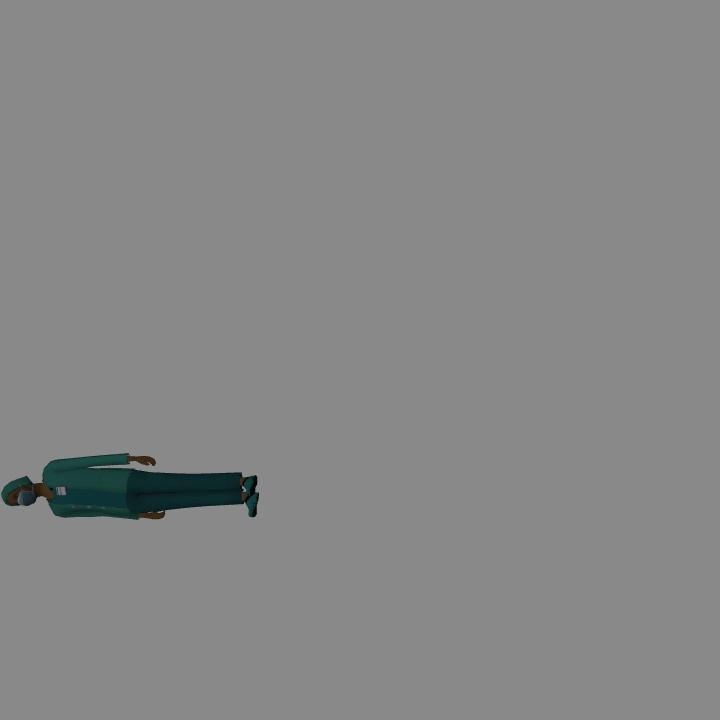victim: (3, 454, 260, 520)
